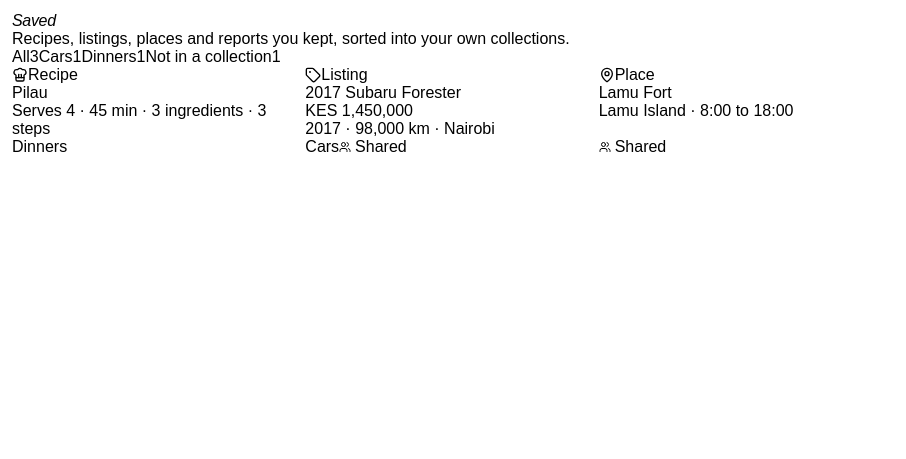
one card › shows a recipe's ingredients and numbered steps, then its notes
This screenshot has width=906, height=459.
Click the button "Pilau" at (159, 111), box [12,66,305,156]
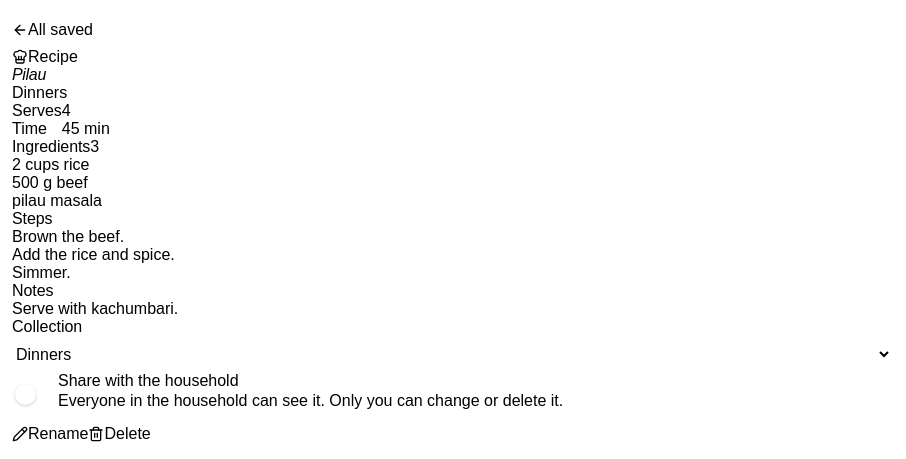
Check: the heading "Pilau" is shown, box [12,66,46,83]
Check: the text "Simmer." is shown, box [12,264,71,281]
Check: the text "Serve with kachumbari." is shown, box [12,300,178,317]
